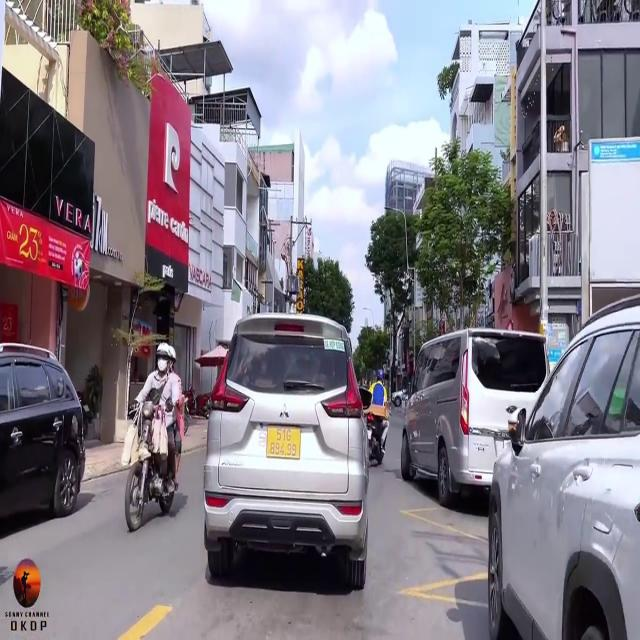bien_vang: (265, 422, 302, 459)
